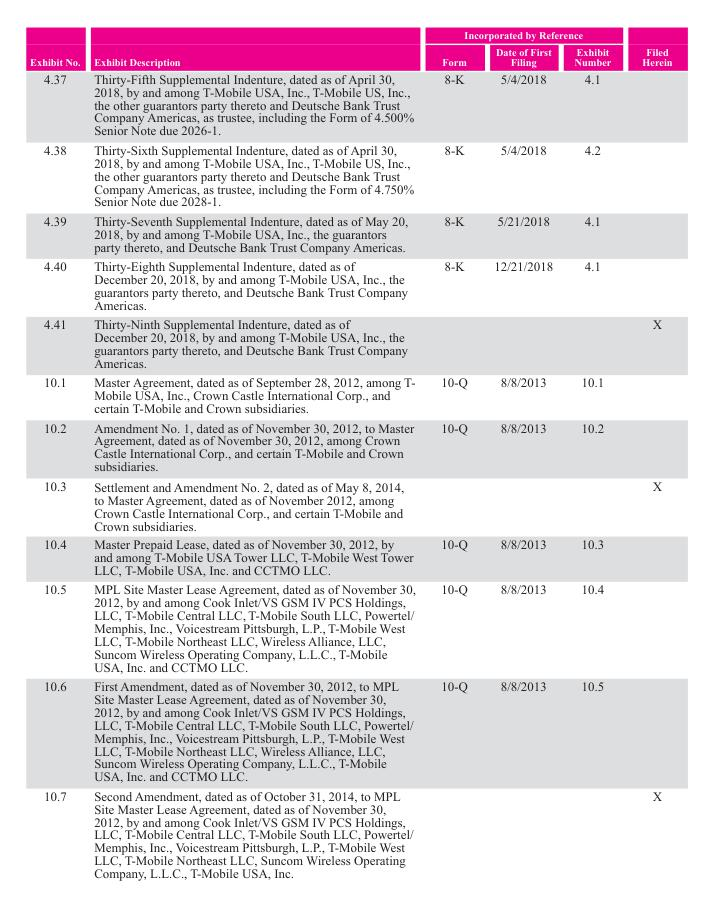table: (29, 28, 671, 880)
table column: (86, 28, 427, 880), (480, 28, 562, 880), (562, 28, 625, 880), (29, 28, 86, 880), (427, 28, 480, 880), (625, 28, 671, 880)
table column header: (29, 28, 671, 69)
table row: (29, 675, 671, 785), (29, 578, 671, 675), (29, 785, 671, 880), (29, 139, 671, 210), (29, 69, 671, 139), (29, 255, 671, 314), (29, 475, 671, 534), (29, 314, 671, 372), (29, 417, 671, 475), (29, 210, 671, 255), (29, 372, 671, 417), (29, 534, 671, 578), (29, 42, 671, 69), (29, 28, 671, 42)
table spanning cell: (86, 28, 427, 69), (427, 28, 625, 42), (29, 28, 86, 69), (625, 28, 671, 69)
